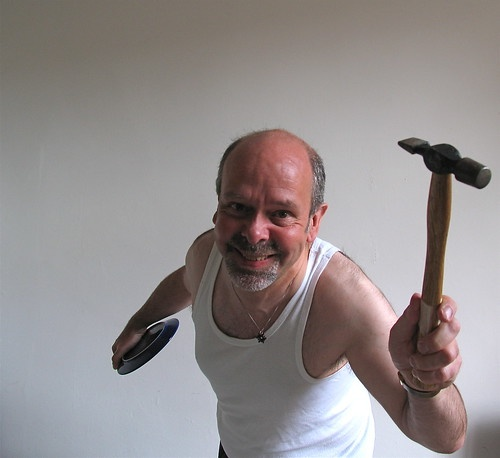hammer: (395, 134, 492, 363)
